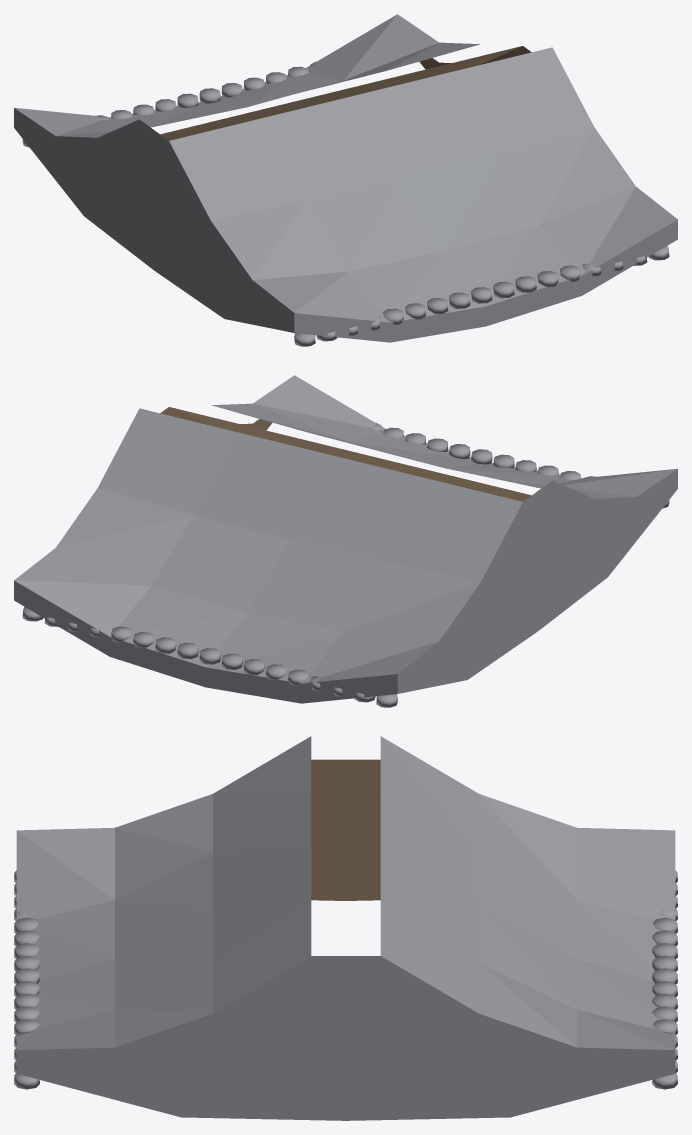
The model's file is korean-hanok-village-and-street-hipped-tile-roof-modul-fb2a5427__38039.glb.
The picture shows the model from 3 angles, top to bottom: view 1: azimuth 30°, elevation 25°; view 2: azimuth 150°, elevation 25°; view 3: azimuth 270°, elevation 25°; orthographic projection. The views are drawn at different scales.
Parts seen in each view (by area): view 1: hipped-tile-roof-module; view 2: hipped-tile-roof-module; view 3: hipped-tile-roof-module.
Part boxes in pixels (box(x1,y1,x2,y2)): hipped-tile-roof-module: box(14, 14, 677, 346); hipped-tile-roof-module: box(14, 375, 677, 707); hipped-tile-roof-module: box(14, 736, 677, 1120).
Size of the model in its own units: 3 by 1.05 by 3.83.
